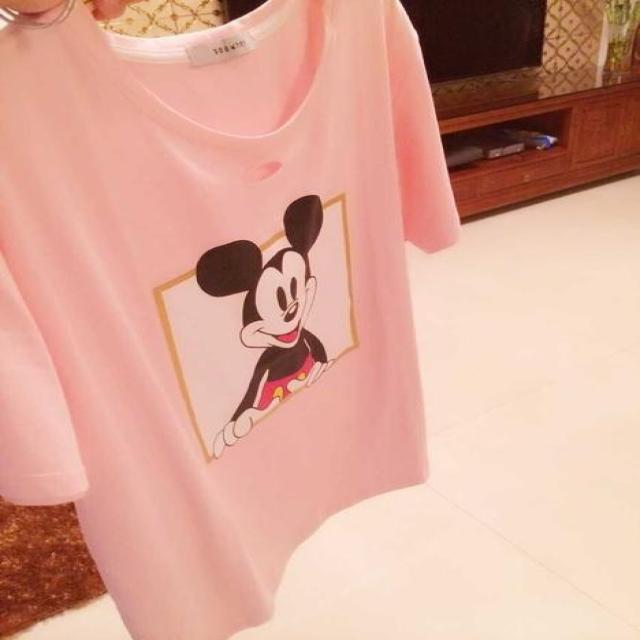short sleeve top: (0, 2, 459, 638)
